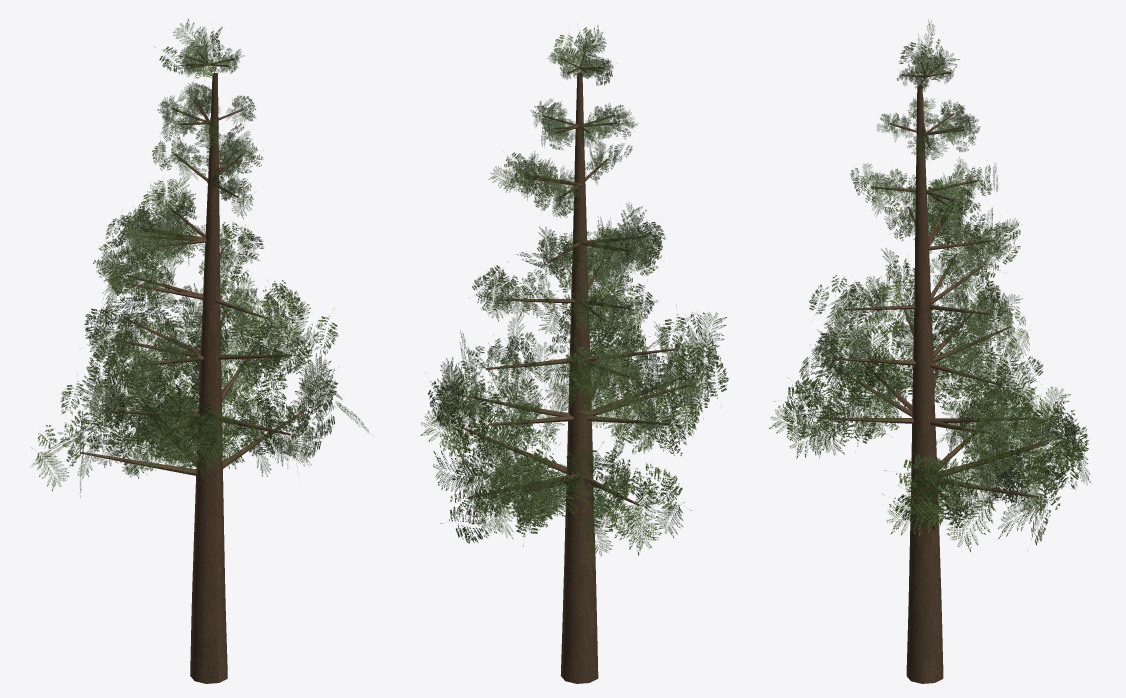
Rendered from pine_3.glb.
The picture shows the model from 3 angles, left to right: view 1: azimuth 30°, elevation 25°; view 2: azimuth 150°, elevation 25°; view 3: azimuth 270°, elevation 25°; orthographic projection. The views are drawn at different scales.
Visible parts, largest first — view 1: pine; view 2: pine; view 3: pine.
Boxes of the visible parts, x1,y1,x2,y2 form: pine: (31,19,370,683); pine: (420,25,728,683); pine: (769,19,1090,683).
Bounding box in the file's own units: 7.69 × 15.92 × 7.72.
Materials: 2 (2 with a texture image).
